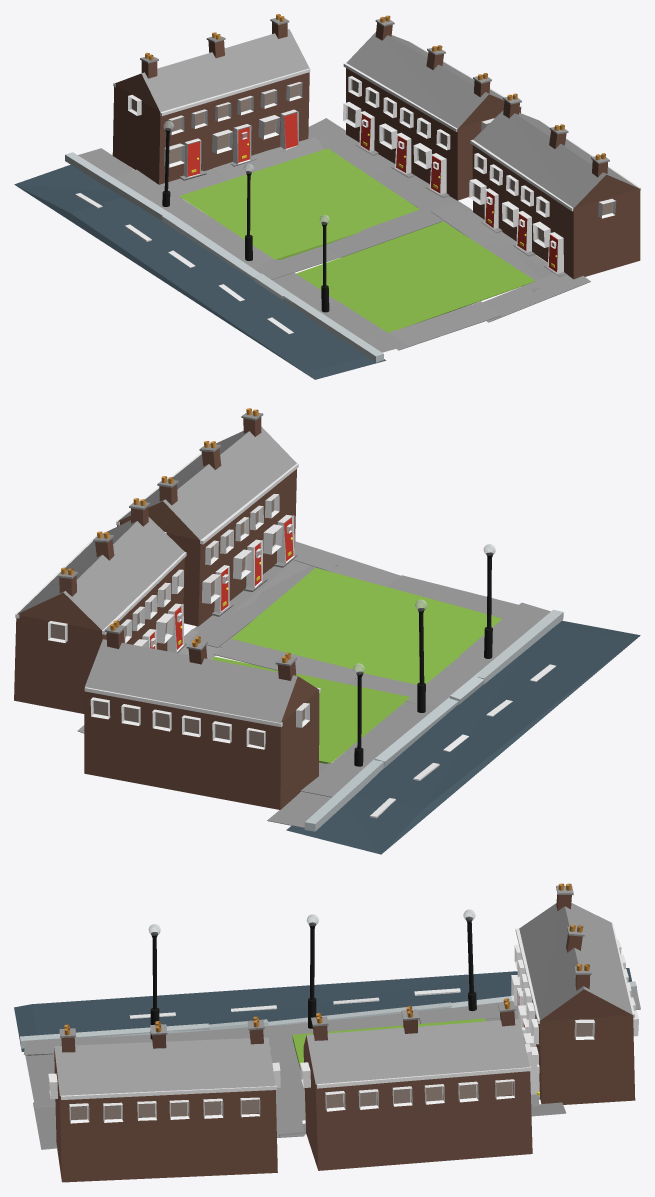
The model's file is salford_street.glb.
3 renders of one model, top to bottom at view 1: azimuth 30°, elevation 25°; view 2: azimuth 150°, elevation 25°; view 3: azimuth 270°, elevation 25°, orthographic. The views are drawn at different scales.
Visible parts, largest first — view 1: group1712980391, group2063440936, group295369104, group666656545, group501757177, group1503953162, group624820178, group44896131, group511478509, group1997023002, group1893226566, group1721759264 (+15 smaller); view 2: group2063440936, group1712980391, group501757177, group1503953162, group295369104, group666656545, group44896131, group624820178, group1648312890, group511478509, group1721759264, group1108371659 (+10 smaller); view 3: group1503953162, group295369104, group2063440936, group1712980391, group44896131, group624820178, group1721759264, group1839814078, group1648312890, group290125455, group306112169, group1077596231 (+7 smaller).
Part boxes in pixels (x1,y1,x2,y2): group1712980391: (14, 164, 385, 379); group2063440936: (112, 29, 309, 184); group295369104: (472, 110, 640, 279); group666656545: (179, 148, 419, 259); group501757177: (296, 221, 535, 332); group1503953162: (346, 32, 520, 200); group624820178: (388, 301, 500, 350); group44896131: (326, 208, 442, 257); group511478509: (483, 272, 590, 322); group1997023002: (308, 118, 395, 176); group1893226566: (371, 165, 471, 215); group1721759264: (113, 169, 211, 225); group2063440936: (84, 639, 319, 809); group1712980391: (286, 620, 640, 854); group501757177: (231, 567, 502, 684); group1503953162: (14, 517, 184, 713); group295369104: (117, 426, 296, 626); group666656545: (211, 656, 410, 763); group44896131: (214, 639, 360, 684); group624820178: (386, 575, 518, 618); group1648312890: (459, 602, 550, 660); group511478509: (292, 541, 400, 586); group1721759264: (300, 742, 386, 797); group1108371659: (190, 590, 261, 647); group1503953162: (303, 1019, 532, 1170); group295369104: (54, 1037, 277, 1182); group2063440936: (519, 903, 635, 1104); group1712980391: (14, 968, 631, 1051); group44896131: (276, 1065, 305, 1120); group624820178: (25, 1054, 55, 1107); group1721759264: (418, 1001, 516, 1023); group1839814078: (287, 1013, 420, 1034); group1648312890: (23, 1034, 152, 1055); group290125455: (263, 1025, 298, 1065); group306112169: (61, 1085, 276, 1099); group1077596231: (316, 1066, 530, 1088).
Bounding box in the file's own units: 5.59 × 1.96 × 6.62.
